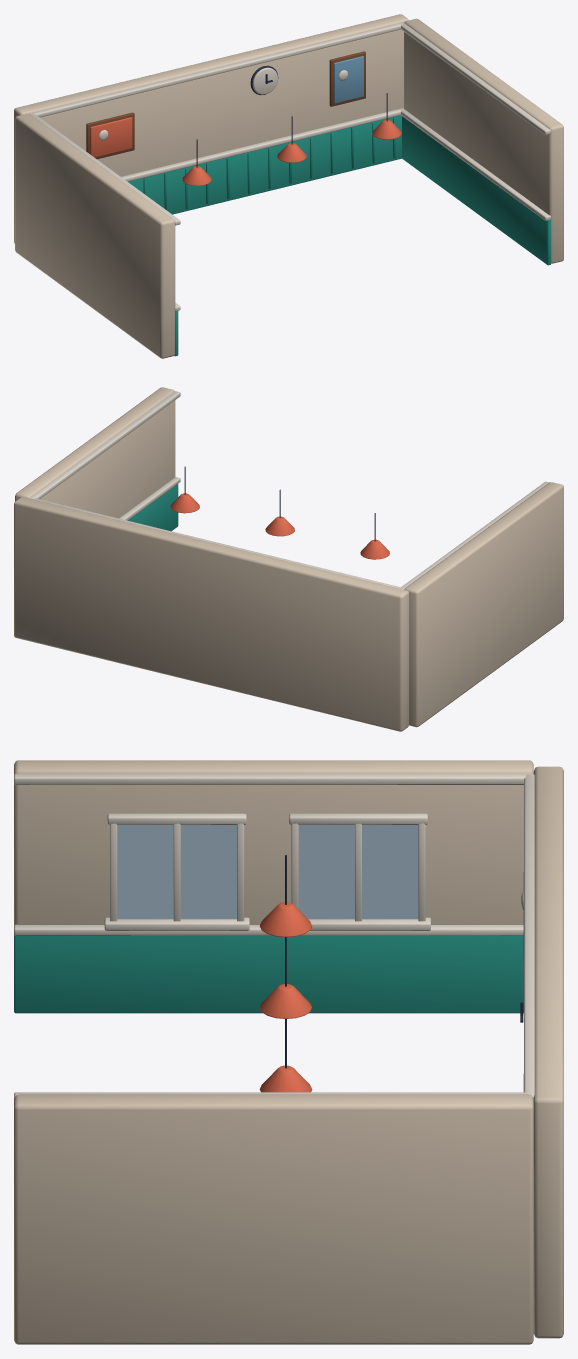
The model's file is room_bakery.glb.
The picture shows the model from 3 angles, top to bottom: view 1: azimuth 30°, elevation 25°; view 2: azimuth 150°, elevation 25°; view 3: azimuth 270°, elevation 25°; orthographic projection. The views are drawn at different scales.
Parts seen in each view (by area): view 1: room_bakery; view 2: room_bakery; view 3: room_bakery, Glass_room_bakery.
Part boxes in pixels (box(x1,y1,x2,y2)): room_bakery: box(14, 14, 563, 358); room_bakery: box(14, 387, 563, 731); room_bakery: box(14, 760, 563, 1344); Glass_room_bakery: box(117, 825, 418, 919).
Bounding box in the file's own units: 13.6 × 4.4 × 9.1.
